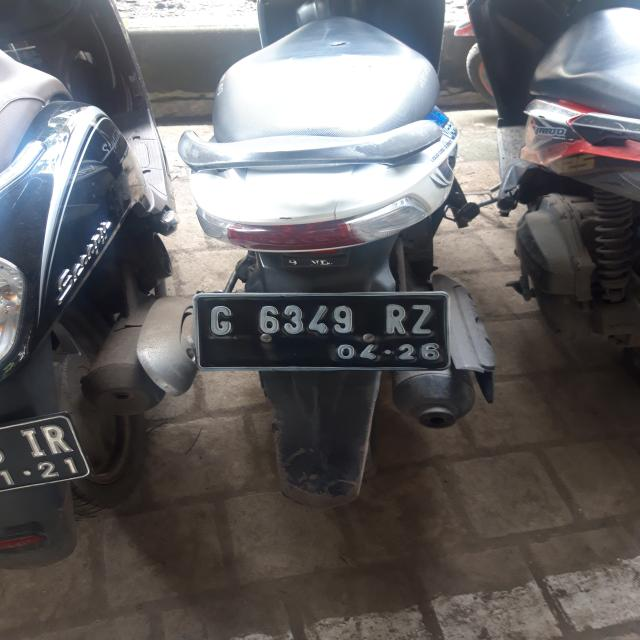plate: (195, 292, 451, 373)
